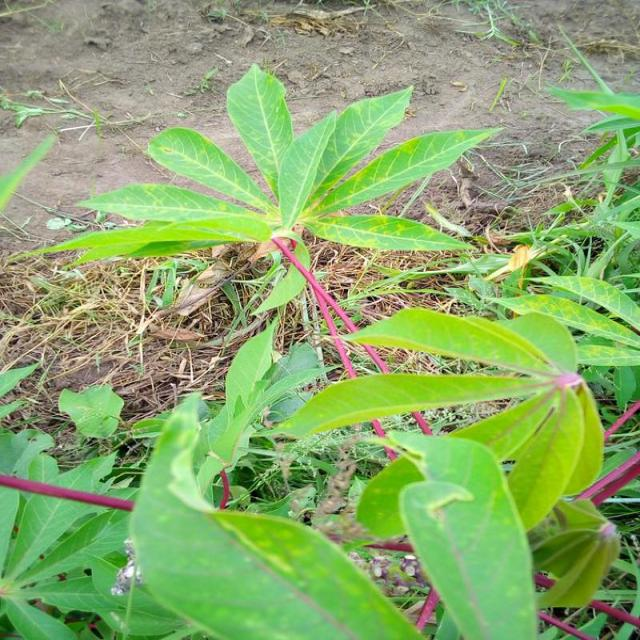cassava leaf: (268, 305, 603, 536), (127, 391, 426, 638)
